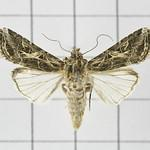Spodoptera litura: (1, 27, 150, 130)
